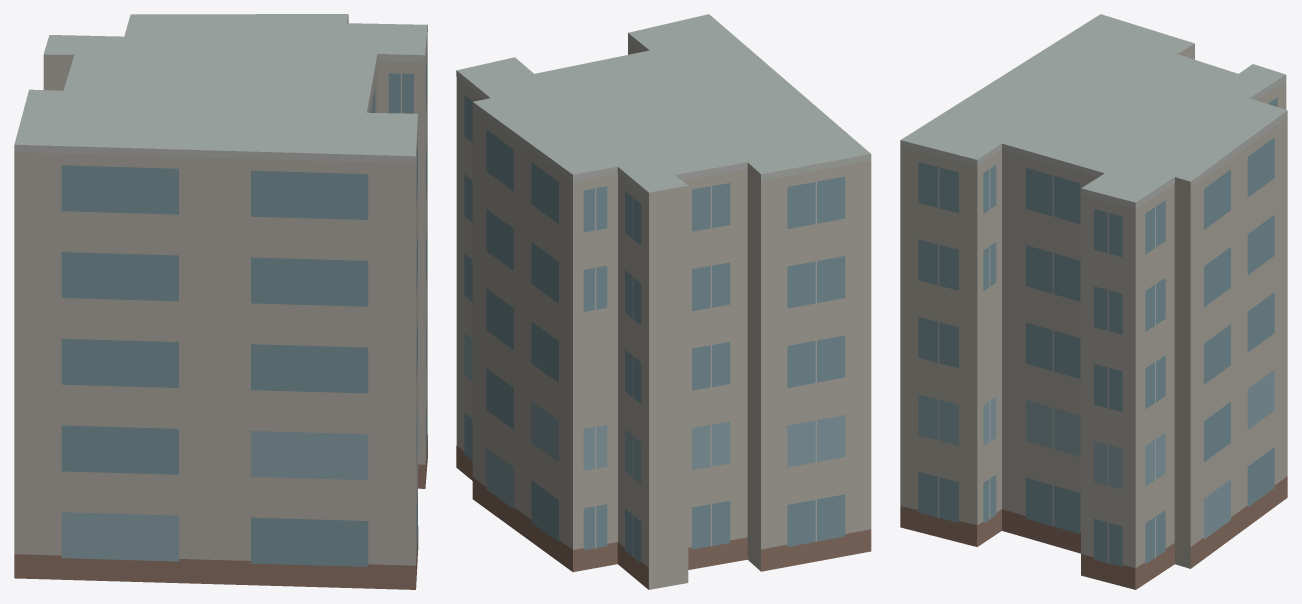
Rendered from survey-upis-32971246.glb.
3 views of the same model, side by side, from view 1: azimuth 30°, elevation 25°; view 2: azimuth 150°, elevation 25°; view 3: azimuth 270°, elevation 25° (orthographic). The views are drawn at different scales.
Parts seen in each view (by area): view 1: survey-upis-32971246.tmp; view 2: survey-upis-32971246.tmp; view 3: survey-upis-32971246.tmp.
Boxes of the visible parts, box(x1,y1,x2,y2) form: survey-upis-32971246.tmp: box(14, 14, 427, 589); survey-upis-32971246.tmp: box(456, 14, 871, 589); survey-upis-32971246.tmp: box(900, 14, 1287, 589).
Bounding box in the file's own units: 15.37 × 14.7 × 13.34.
